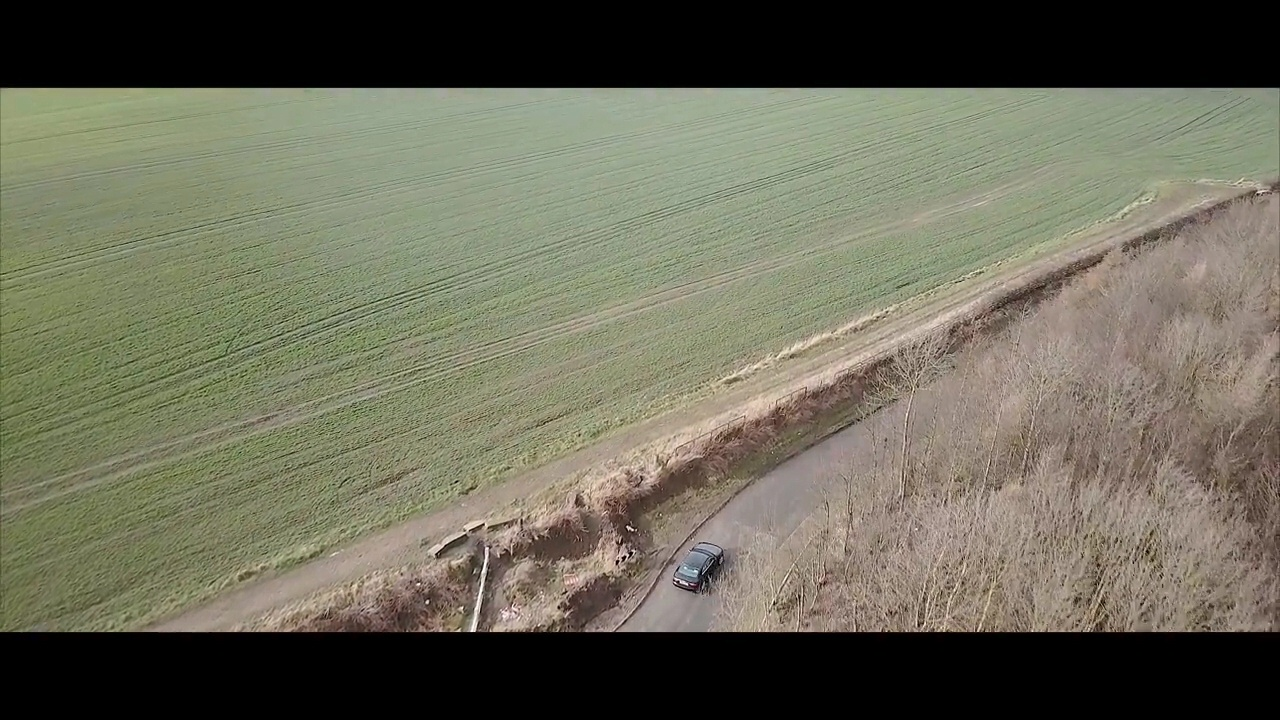araba: (671, 539, 724, 594)
